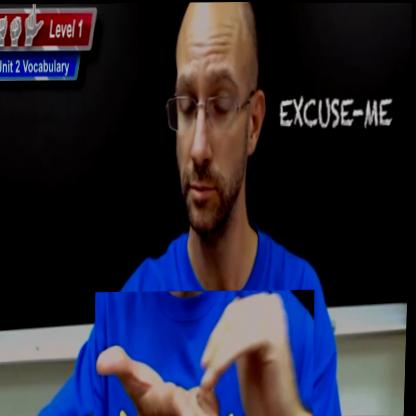ExcuseMe: (93, 288, 317, 416)
